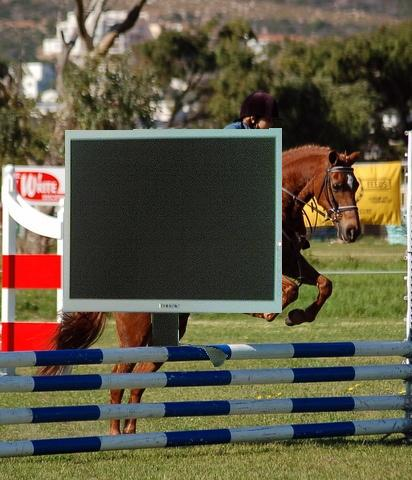tampered: (63, 129, 282, 367)
